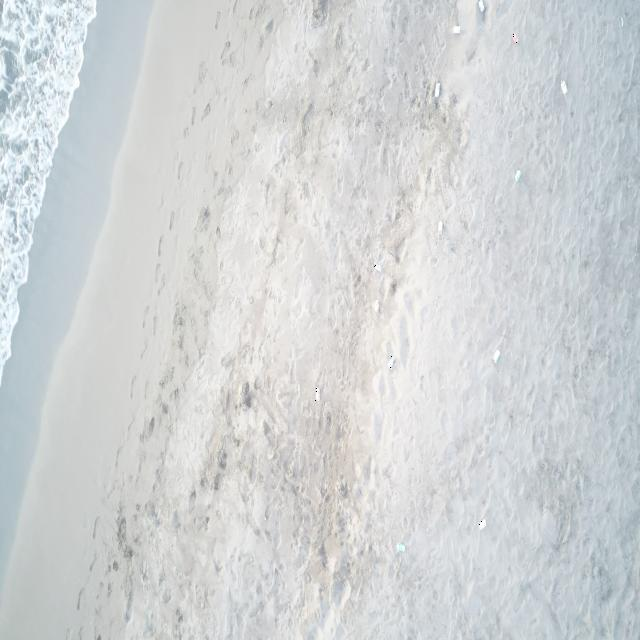tin-and-aluminum-cans: (387, 354, 396, 369), (562, 80, 570, 94), (514, 169, 522, 182), (479, 520, 487, 532), (494, 348, 500, 364), (396, 542, 405, 552), (315, 387, 321, 402), (374, 299, 380, 314), (438, 220, 443, 236), (512, 33, 519, 44), (374, 263, 382, 272), (478, 0, 484, 12), (435, 82, 440, 96), (453, 26, 461, 34)
